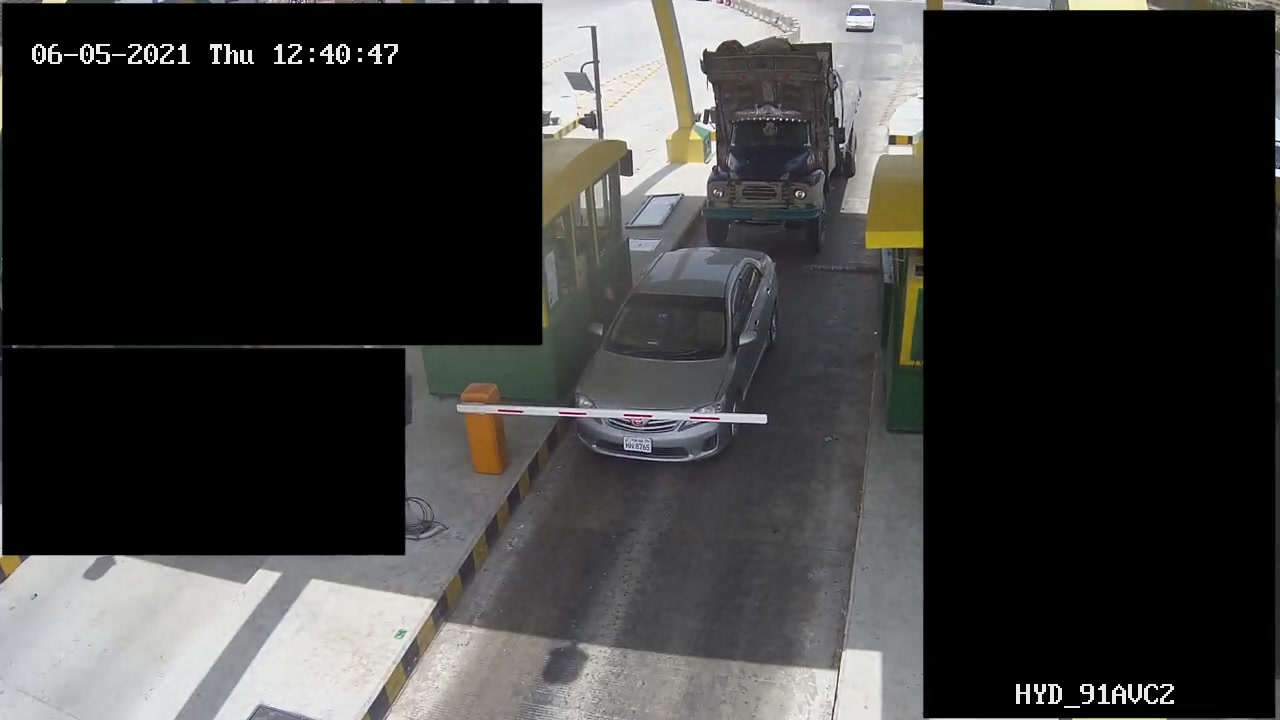F1: (582, 244, 780, 462)
F5: (685, 36, 866, 257)
